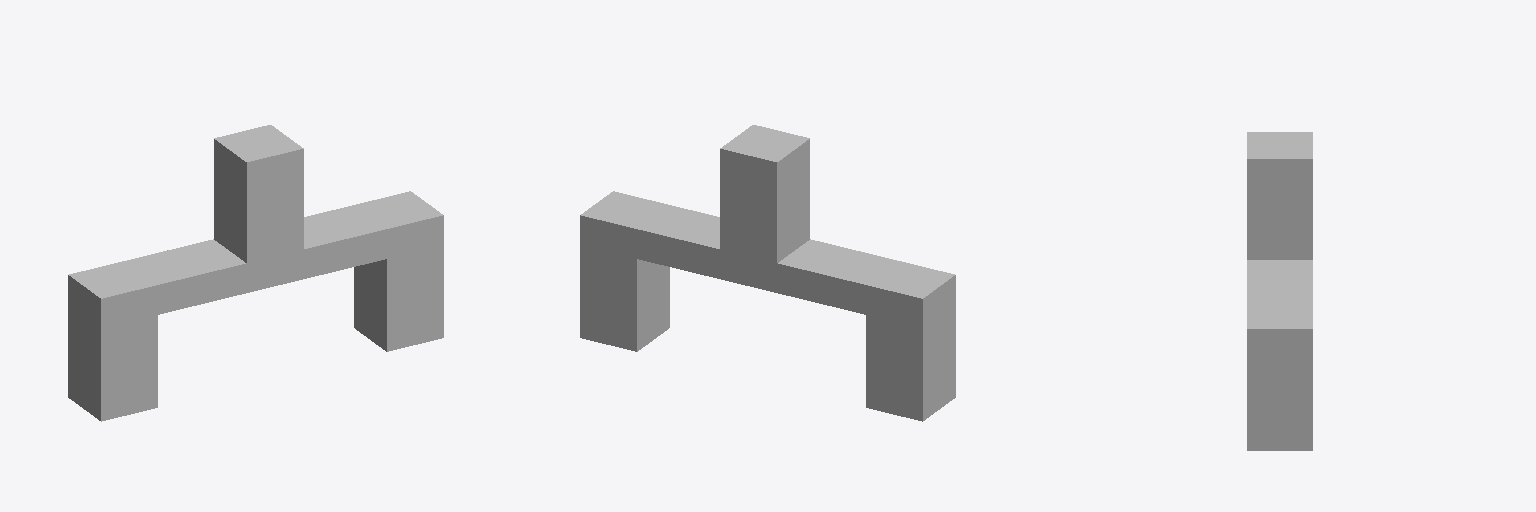
The model's file is дер.obj.
The picture shows the model from 3 angles: view 1: azimuth 30°, elevation 25°; view 2: azimuth 150°, elevation 25°; view 3: azimuth 270°, elevation 25°; orthographic projection.
Parts seen in each view (by area): view 1: Box001; view 2: Box001; view 3: Box001.
Boxes of the visible parts, x1=… form: Box001: x1=68, y1=125, x2=443, y2=421; Box001: x1=580, y1=125, x2=955, y2=421; Box001: x1=1247, y1=132, x2=1312, y2=450.
Bounding box in the file's own units: 120 × 74.83 × 20.01.